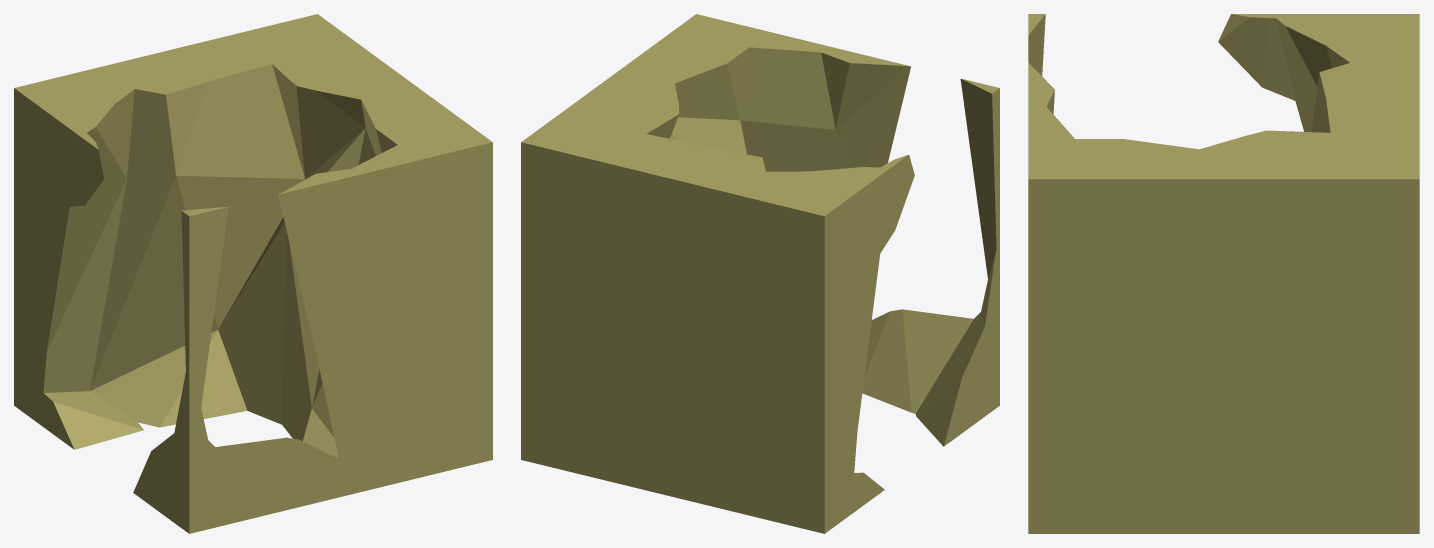
The model's file is Destroyed_box-col2.glb.
The picture shows the model from 3 angles, left to right: view 1: azimuth 30°, elevation 25°; view 2: azimuth 150°, elevation 25°; view 3: azimuth 270°, elevation 25°; orthographic projection. The views are drawn at different scales.
Parts seen in each view (by area): view 1: Destroyed_box-col2; view 2: Destroyed_box-col2; view 3: Destroyed_box-col2.
Part boxes in pixels (<box>): Destroyed_box-col2: <box>14,14,492,533</box>; Destroyed_box-col2: <box>521,14,999,533</box>; Destroyed_box-col2: <box>1028,14,1419,533</box>.
Size of the model in its own units: 2 by 2 by 2.
